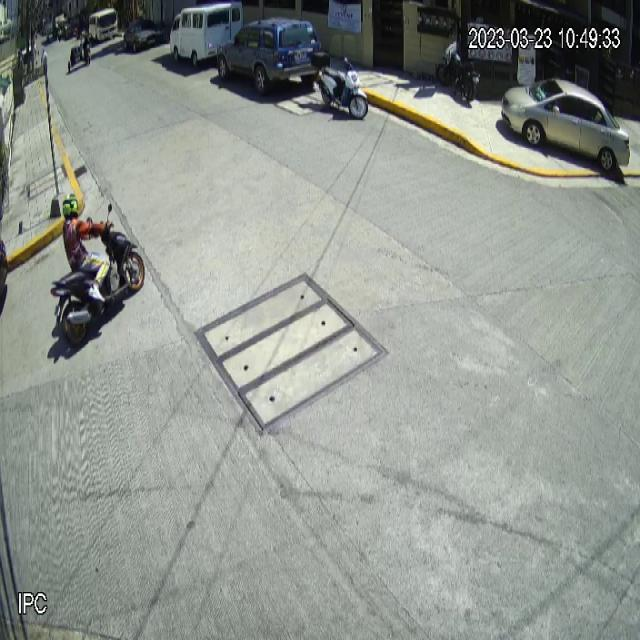Car: (500, 76, 630, 173), (217, 16, 322, 95)
Motorcycle: (50, 202, 146, 348), (311, 51, 368, 120)
Van: (170, 0, 244, 67)
